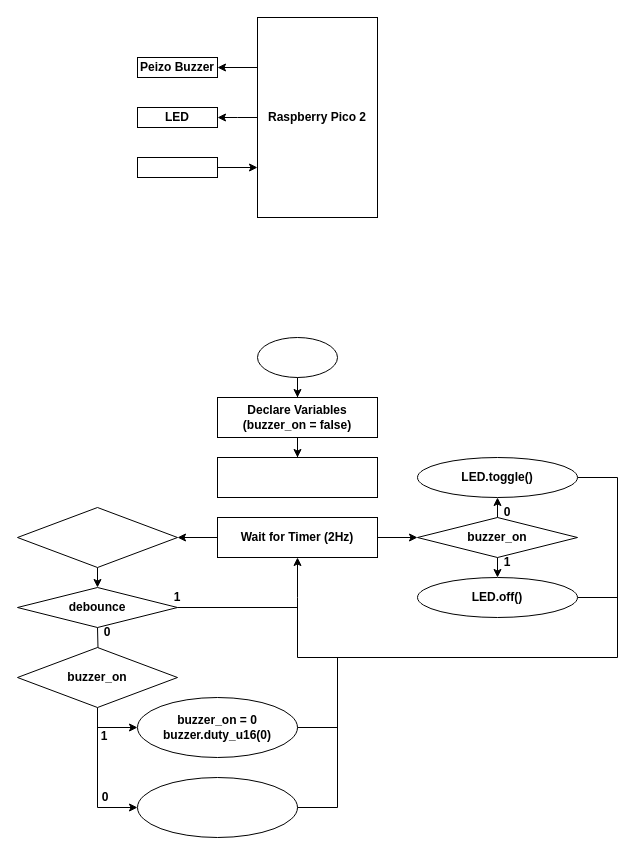
Some shapes in this 636 by 855 pixel diagram are drawn without their labels. Each missing label, with the centre of its shape:
"Button" belongs at (177,167).
"button_pressed (interrupt)" belongs at (97,537).
"buzzer_on = 1 buzzer.duty_u16(32768) LED.off()" belongs at (217,807).
"Initialize PWM & Timers" belongs at (297,477).
"START" belongs at (297,357).
